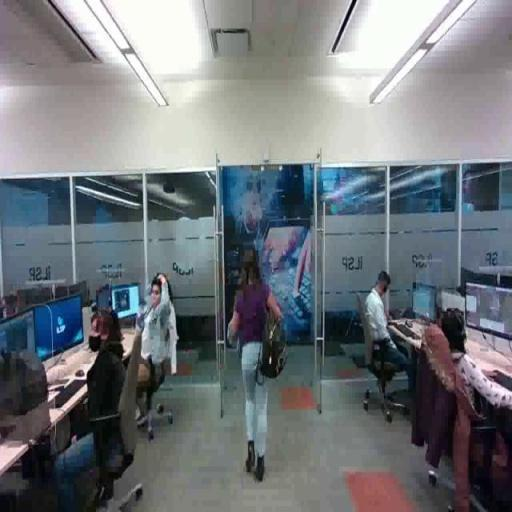person: (229, 243, 288, 482)
